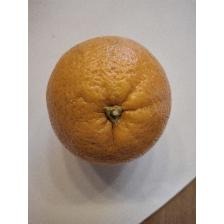Orange: (45, 36, 175, 168)
